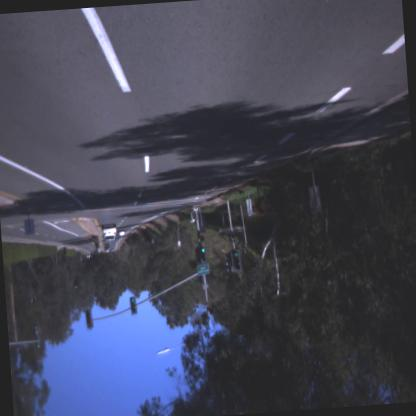trafficlight: (233, 249, 242, 274), (129, 294, 138, 316), (200, 244, 208, 262)
